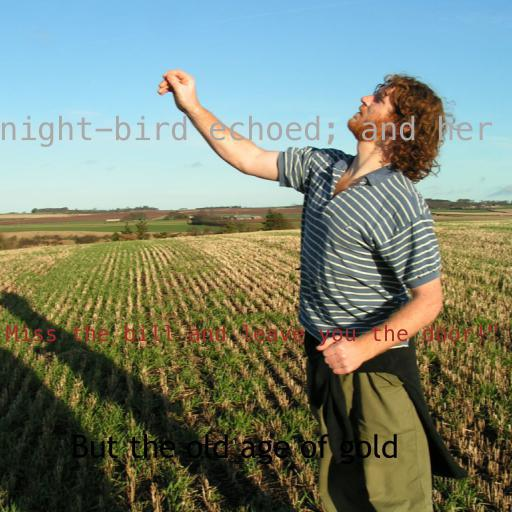Menlo: (0, 115, 512, 147), (6, 324, 500, 346)
Trebuchet MS: (71, 434, 399, 465)
